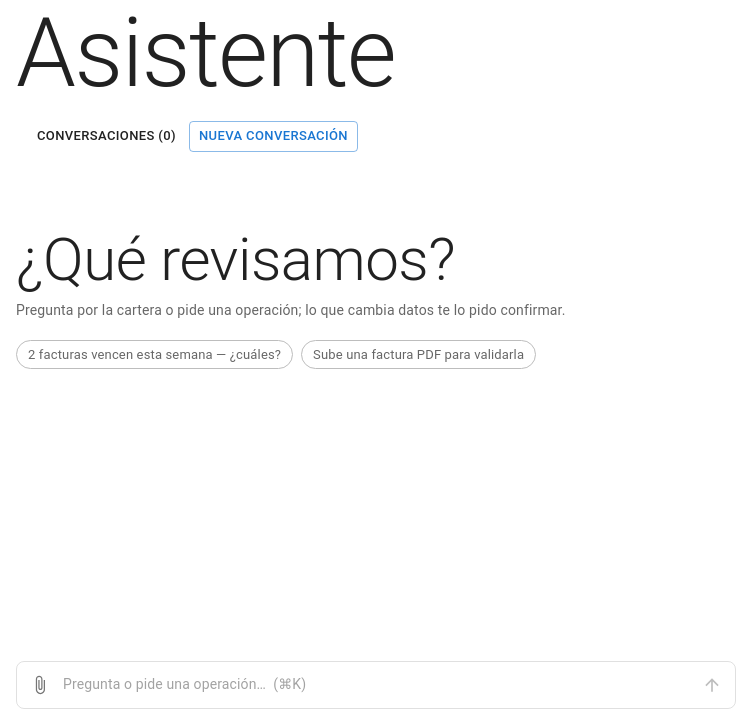
Test: AssistantPage › AC-010-08 sin mensajes sugiere preguntas con datos del tablero
Expected: the text "2 facturas vencen esta semana — ¿cuáles?" is shown, [17,345,292,364]
Click the button "2 facturas vencen esta semana — ¿cuáles?".
click(155, 355)  # box [16,340,293,369]
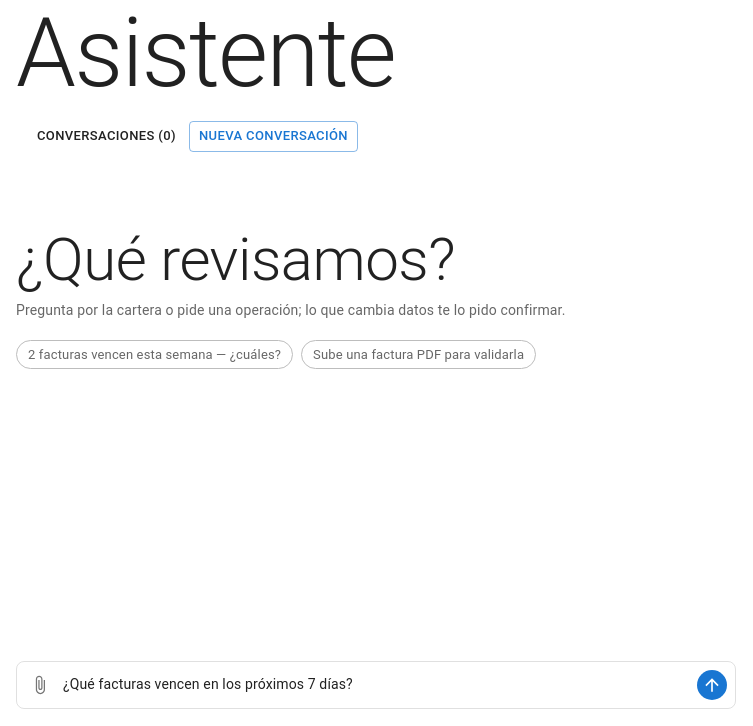
Result: the text box named "Mensaje" holds "¿Qué facturas vencen en los próximos 7 días?" at [63,674,689,696]
